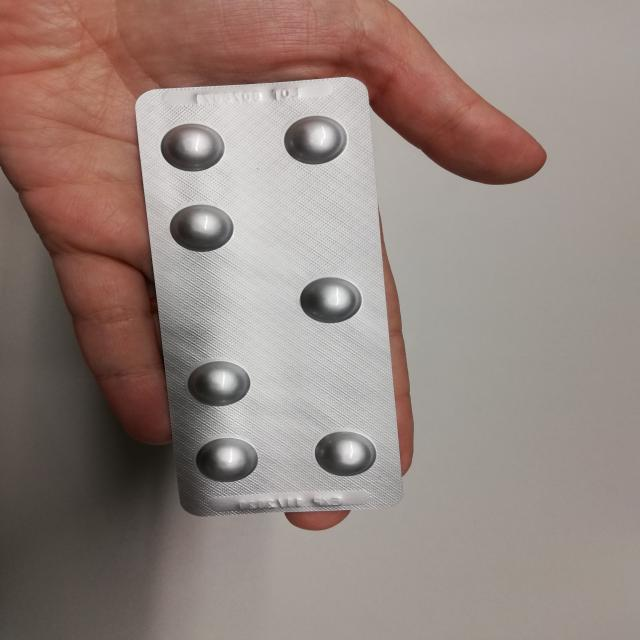Pill: (272, 107, 358, 172), (292, 264, 368, 328), (183, 429, 263, 489), (306, 421, 380, 480), (159, 197, 235, 253), (183, 355, 254, 414), (156, 116, 224, 176)
